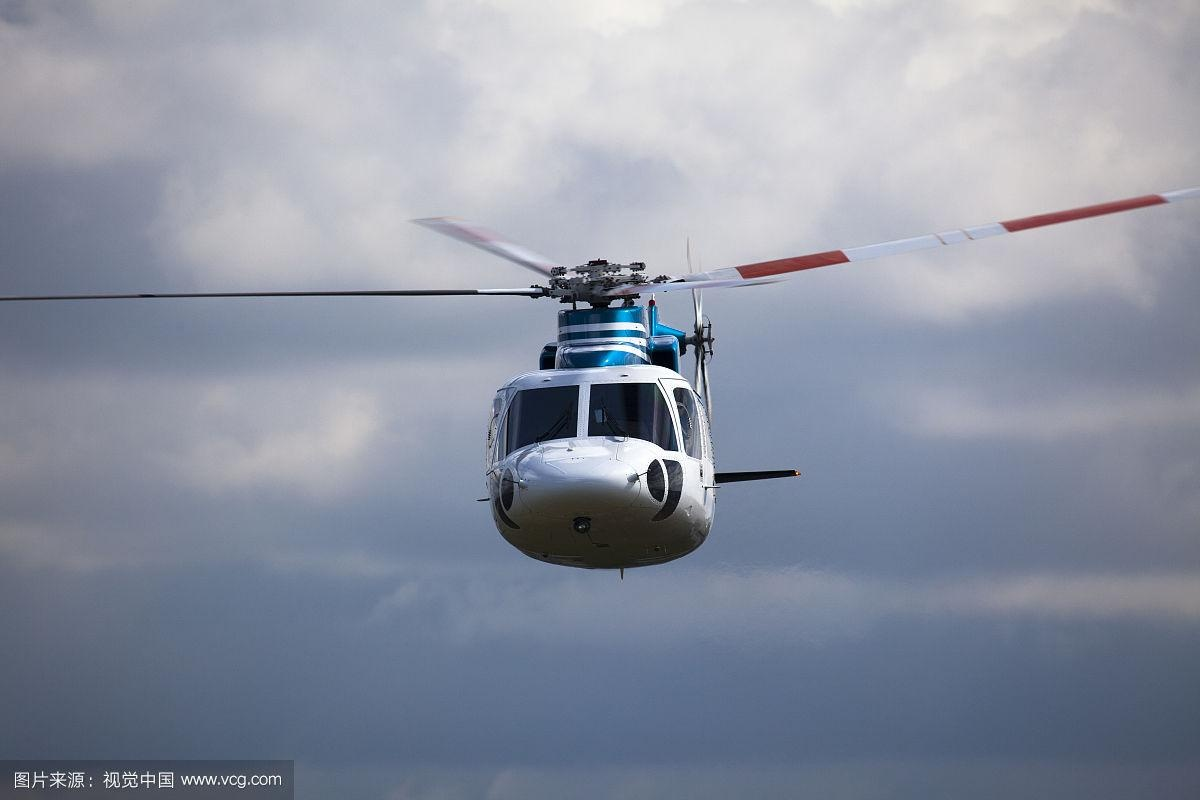airplane: (11, 172, 1200, 585)
